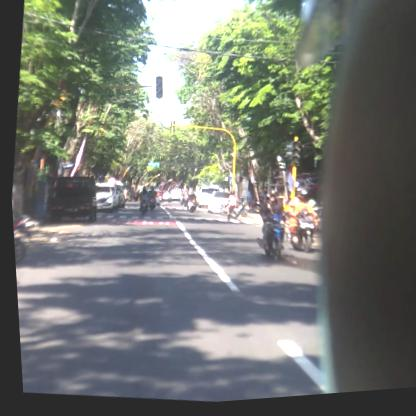yellow: (151, 76, 165, 102), (287, 144, 300, 172)
